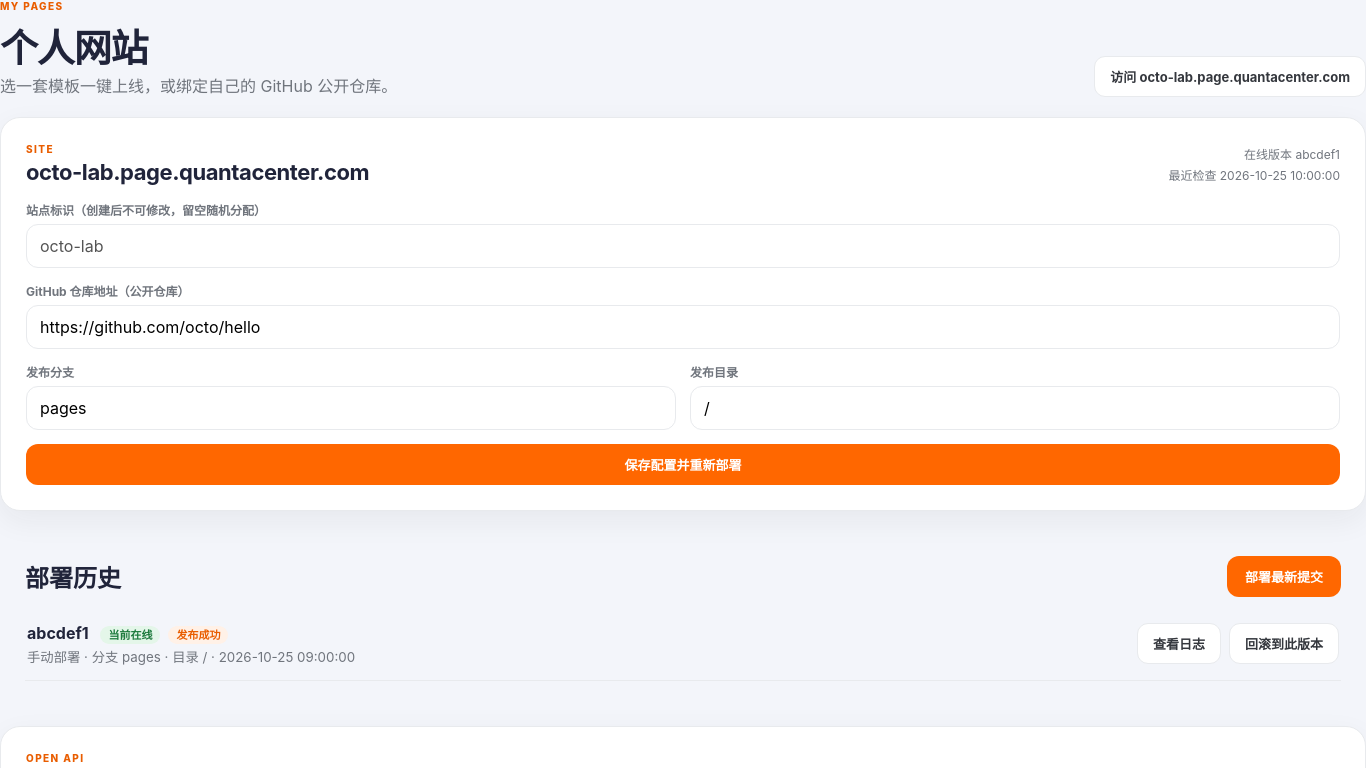
Test: member pages console › renders the deployment log as plain text
Click the button "查看日志" at (1179, 644), box x1=1137 y1=623 x2=1221 y2=664
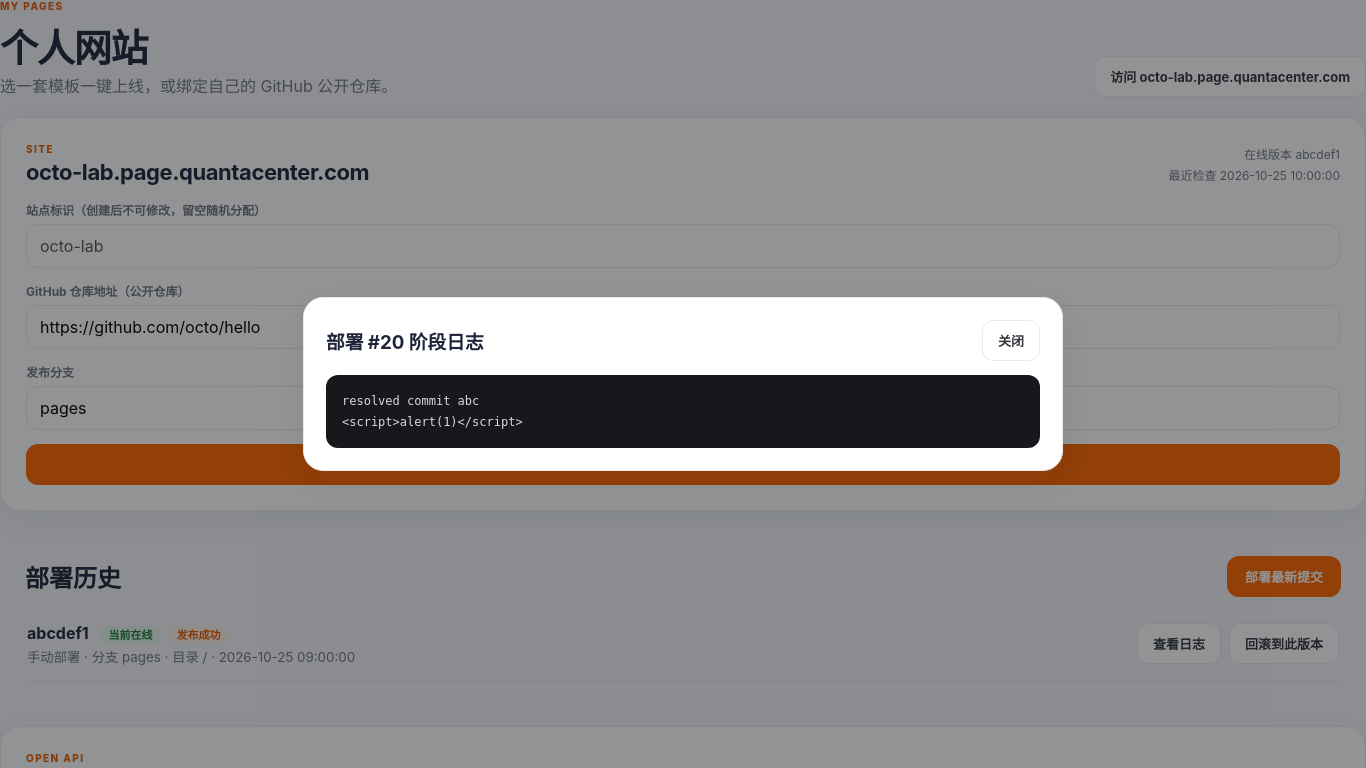
Now the dialog with test id "pages-log-dialog" is shown
